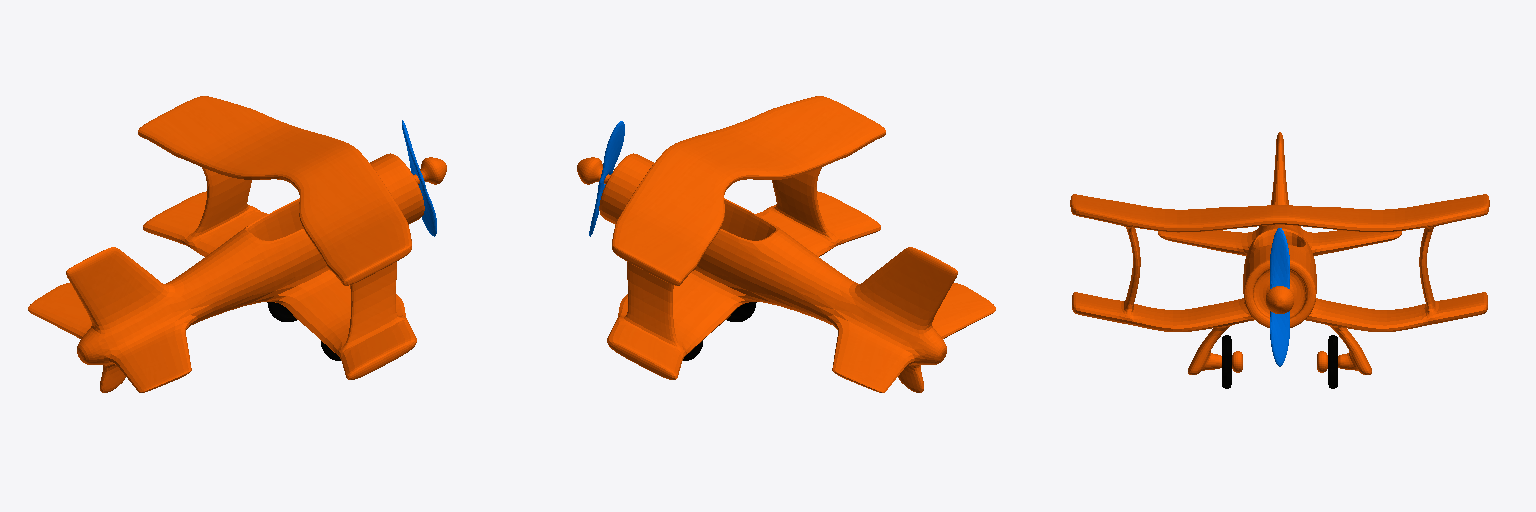
3 renders of one model, left to right at view 1: azimuth 30°, elevation 25°; view 2: azimuth 150°, elevation 25°; view 3: azimuth 270°, elevation 25°, orthographic.
Parts seen in each view (by area): view 1: Mesh; view 2: Mesh; view 3: Mesh.
Boxes of the visible parts, box(x1,y1,x2,y2) form: Mesh: box(28, 96, 446, 392); Mesh: box(577, 96, 995, 392); Mesh: box(1070, 132, 1489, 388).
Size of the model in its own units: 2.01 by 1.01 by 1.92.
3 materials, 3 textured.